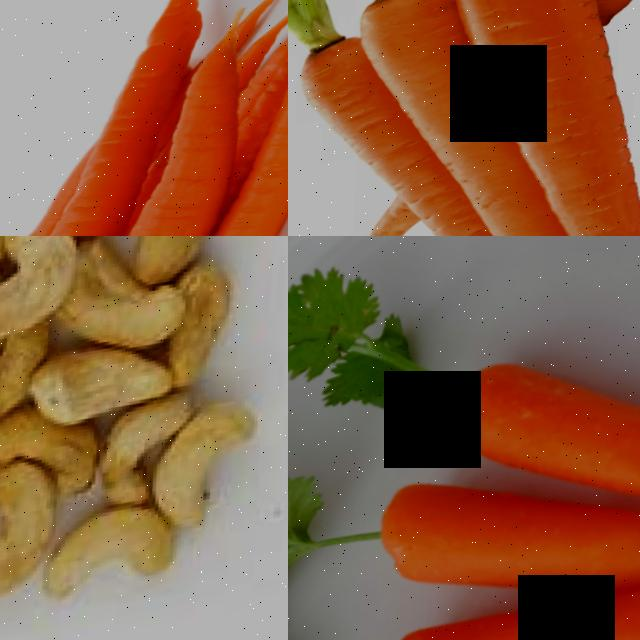carrot: (362, 463, 640, 628), (436, 303, 640, 498), (382, 0, 541, 236), (484, 0, 640, 236), (0, 3, 145, 236), (288, 55, 404, 236), (92, 81, 225, 236), (182, 103, 288, 236), (372, 591, 640, 640)
cashew: (150, 433, 286, 577), (44, 505, 180, 628), (35, 349, 165, 435), (0, 456, 64, 628), (63, 275, 184, 362), (0, 256, 82, 369), (103, 410, 182, 510)
